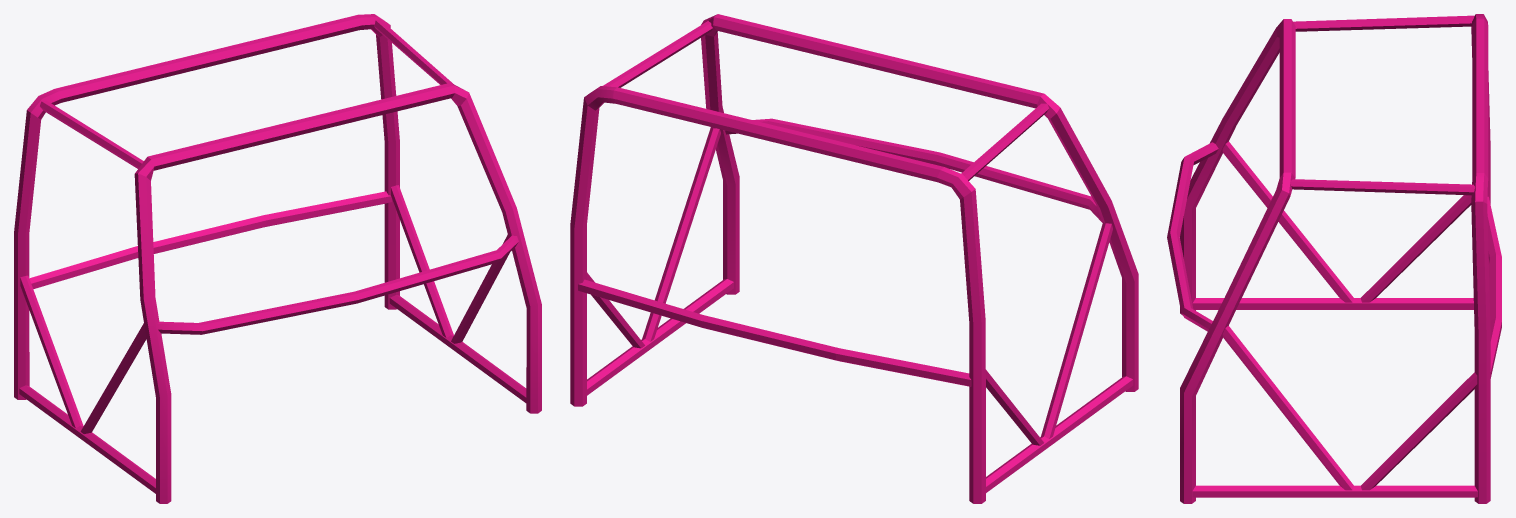
The model's file is SM_Veh_Truck_01_RollCage_01.fbx.
3 renders of one model, left to right at view 1: azimuth 30°, elevation 25°; view 2: azimuth 150°, elevation 25°; view 3: azimuth 270°, elevation 25°, orthographic. The views are drawn at different scales.
Visible parts, largest first — view 1: SM_Veh_Truck_01_RollCage_01; view 2: SM_Veh_Truck_01_RollCage_01; view 3: SM_Veh_Truck_01_RollCage_01.
Boxes of the visible parts, left/top/right/bottom form: SM_Veh_Truck_01_RollCage_01: left=14, top=14, right=541, bottom=503; SM_Veh_Truck_01_RollCage_01: left=570, top=14, right=1138, bottom=503; SM_Veh_Truck_01_RollCage_01: left=1167, top=14, right=1501, bottom=503.
Size of the model in its own units: 202 by 151 by 147.
